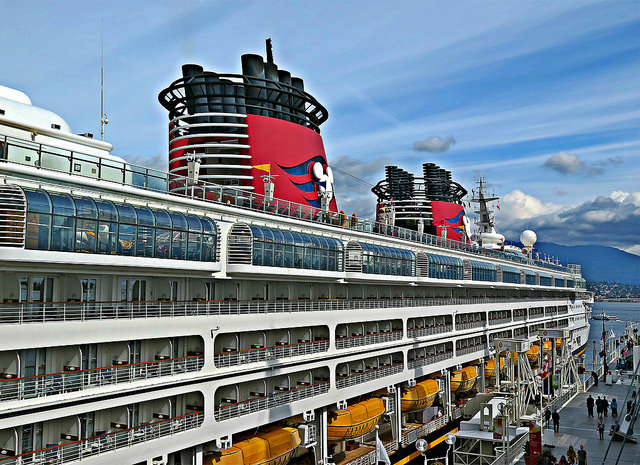cruise_ship: (1, 40, 594, 414)
